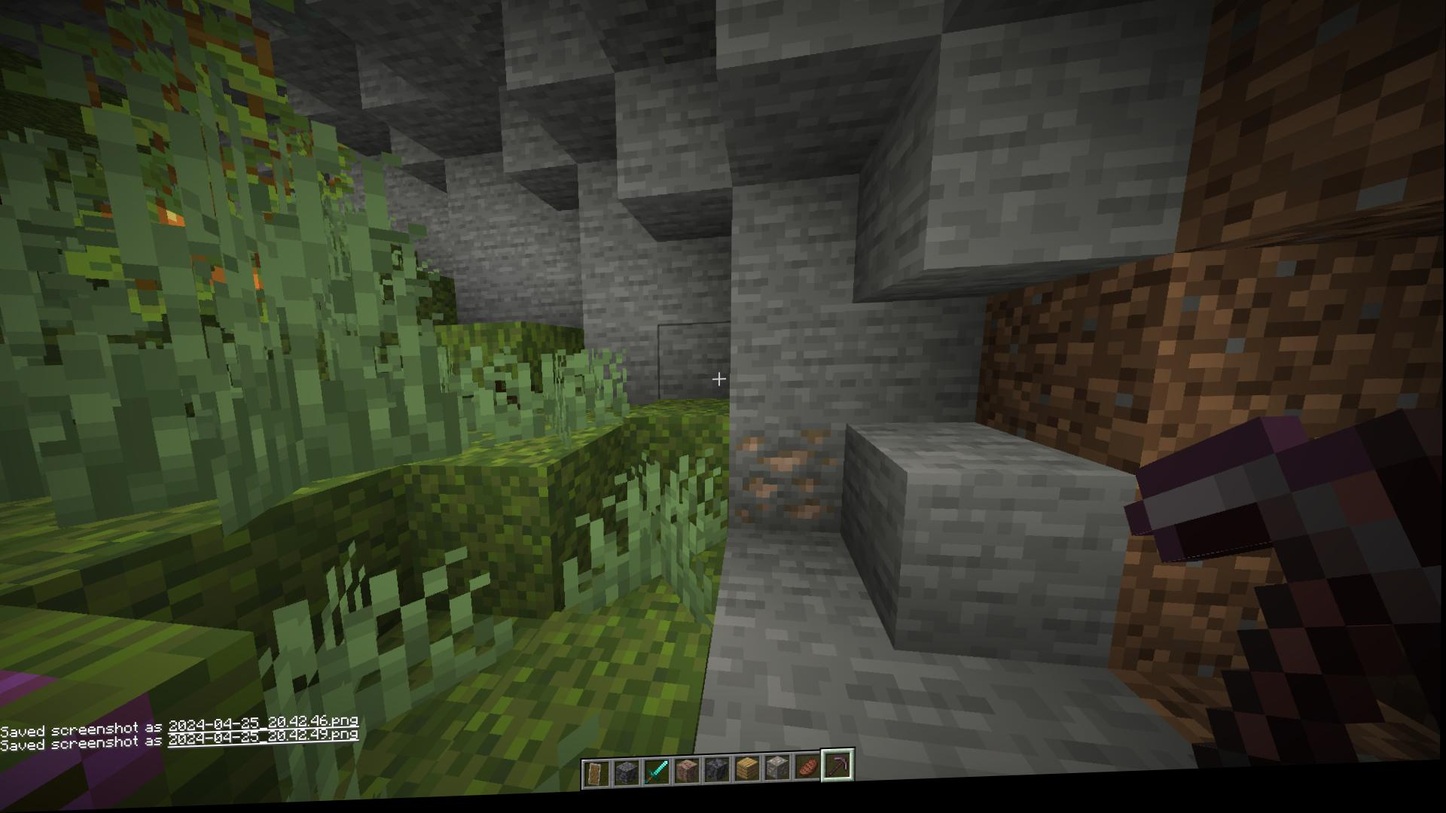iron ore: (731, 427, 846, 537)
